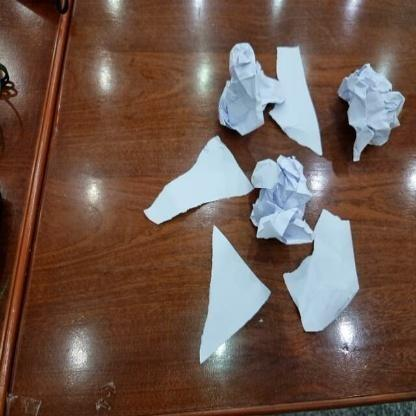trash: (135, 131, 256, 226), (197, 219, 270, 370), (282, 212, 363, 336), (334, 60, 410, 167), (263, 44, 333, 159), (211, 35, 288, 136), (246, 154, 318, 254)
